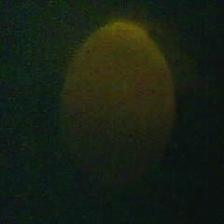fertile: (58, 18, 174, 170)
